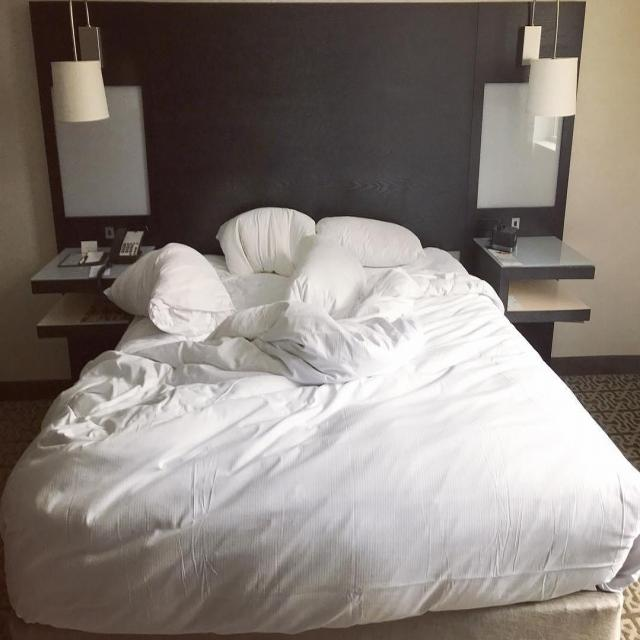bed: (11, 203, 640, 622)
